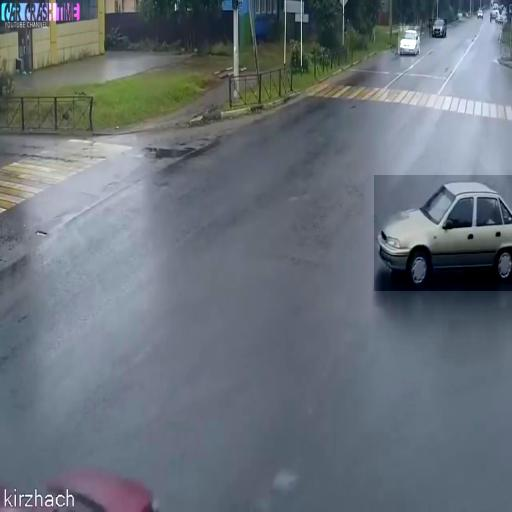小汽车: (374, 176, 512, 292), (398, 26, 420, 54), (429, 19, 447, 38)
